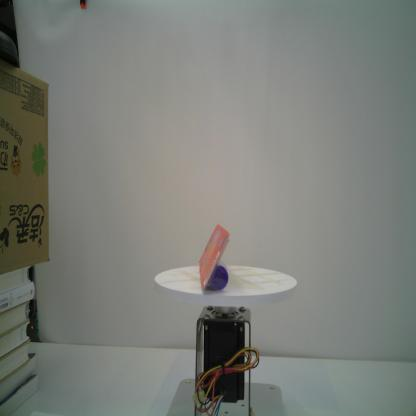Personal Hygiene: (198, 223, 231, 292)
